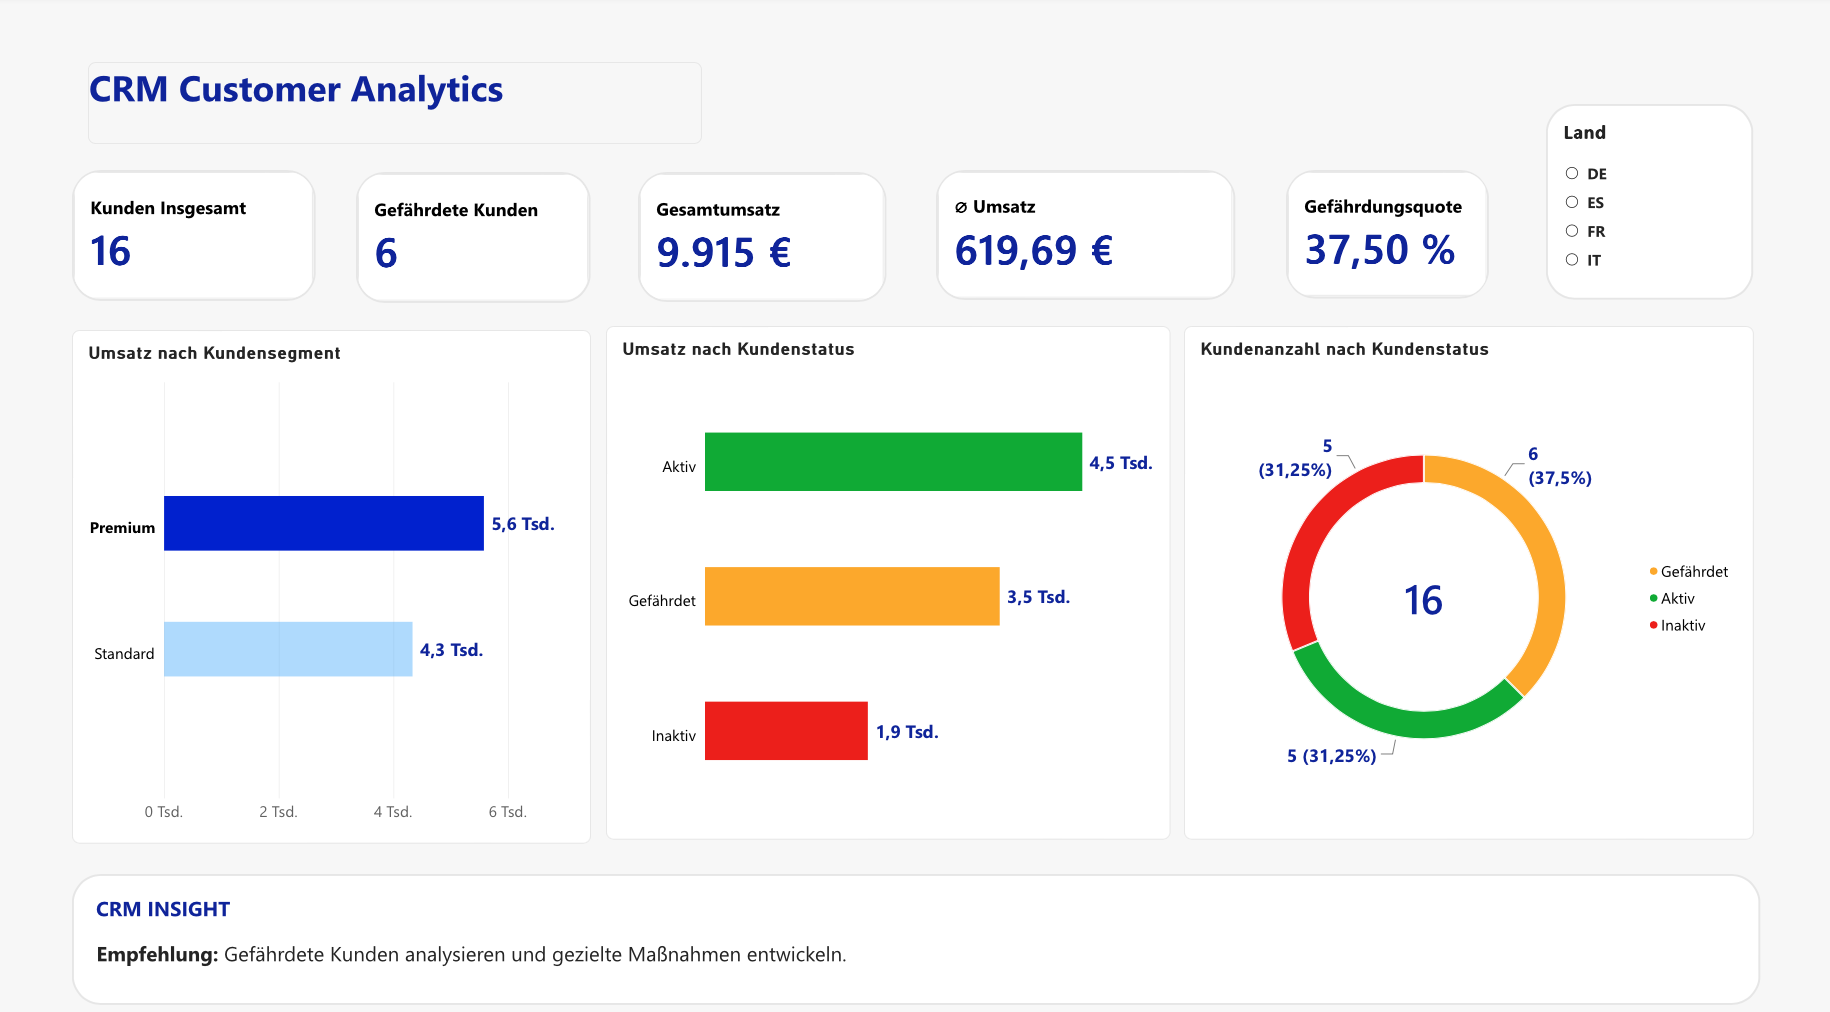

The page's visual inventory and layout, read from the dashboard file:
{"tool":"powerbi","page":{"name":"Seite 1","canvas":[1920,1080],"ordinal":0},"visuals":[{"type":"cardVisual","fields":{"Data":["Count(Tabelle1.Kunden-ID)"]},"box":[79.9,183.3,253.8,136.3],"z":0},{"type":"cardVisual","fields":{"Data":["Sum(Tabelle1.Umsatz)"]},"box":[669.8,185.7,258.8,135.3],"z":1000},{"type":"cardVisual","fields":{"Data":["Avg(Tabelle1.Umsatz)"]},"box":[980,183.3,311.8,135.3],"z":2000},{"type":"barChart","title":"Umsatz nach Kundensegment","fields":{"Category":["Tabelle1.Kundensegment"],"Y":["Sum(Tabelle1.Umsatz)"]},"box":[79.4,350,541.2,535.3],"z":3000},{"type":"barChart","title":"Umsatz nach Kundenstatus","fields":{"Category":["Tabelle1.Kundenklasse"],"Y":["Sum(Tabelle1.Umsatz)"]},"box":[635.3,347.1,588.2,535.3],"z":4000},{"type":"donutChart","title":"Kundenanzahl nach Kundenstatus","fields":{"Category":["Tabelle1.Kundenklasse"],"Y":["Count(Tabelle1.Kunden-ID)"]},"box":[1238.2,347.1,594.1,535.3],"z":5000},{"type":"listSlicer","title":"Land","fields":{"Values":["Tabelle1.Land"]},"box":[1615.3,115.4,216,204.1],"z":6000},{"type":"cardVisual","title":"Gefährdete Kunden","fields":{"Data":["Count(Tabelle1.Kunden-ID)"]},"box":[376,185.7,244.4,136.3],"z":7000},{"type":"textbox","box":[95,71.4,640,85.7],"z":8000},{"type":"textbox","box":[79.9,916.5,1760,136.3],"z":9000},{"type":"cardVisual","fields":{"Data":["Tabelle1.Gefährdungsquote"]},"box":[1344.2,183.3,211.5,134],"z":10000}]}

Visuals, with their boxes in screenshot pixels (x1, y1, x2, y2), scaled from the page's 1920x1080 canvas onto the 1830x1012 screenshot:
cardVisual - Count(Tabelle1.Kunden-ID): pyautogui.locateOnScreen(76, 172, 318, 299)
cardVisual - Sum(Tabelle1.Umsatz): pyautogui.locateOnScreen(638, 174, 885, 301)
cardVisual - Avg(Tabelle1.Umsatz): pyautogui.locateOnScreen(934, 172, 1231, 299)
"Umsatz nach Kundensegment" barChart: pyautogui.locateOnScreen(76, 328, 592, 830)
"Umsatz nach Kundenstatus" barChart: pyautogui.locateOnScreen(606, 325, 1166, 827)
"Kundenanzahl nach Kundenstatus" donutChart: pyautogui.locateOnScreen(1180, 325, 1746, 827)
"Land" listSlicer: pyautogui.locateOnScreen(1540, 108, 1745, 299)
"Gefährdete Kunden" cardVisual: pyautogui.locateOnScreen(358, 174, 591, 302)
textbox: pyautogui.locateOnScreen(91, 67, 701, 147)
textbox: pyautogui.locateOnScreen(76, 859, 1754, 987)
cardVisual - Tabelle1.Gefährdungsquote: pyautogui.locateOnScreen(1281, 172, 1483, 297)
